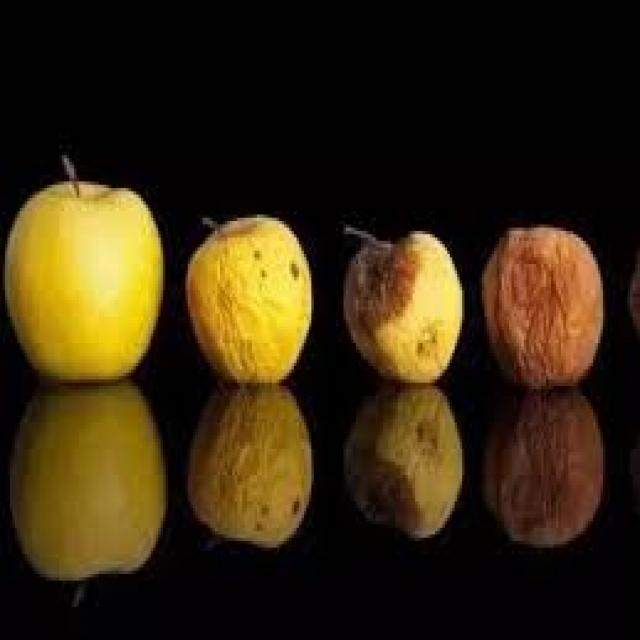organic waste: (8, 376, 166, 604), (5, 158, 161, 376), (180, 204, 309, 380), (185, 383, 309, 544), (477, 221, 600, 379), (341, 221, 462, 379), (480, 386, 600, 541), (341, 386, 462, 538)
